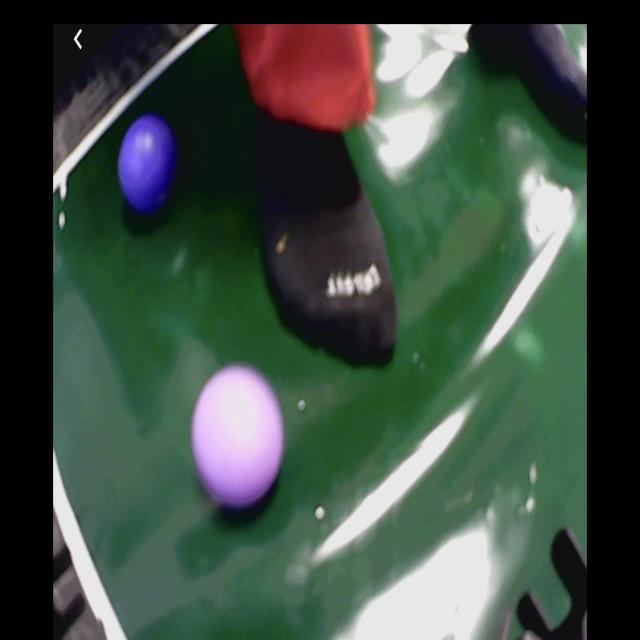ball: (192, 363, 283, 508), (118, 113, 180, 216)
